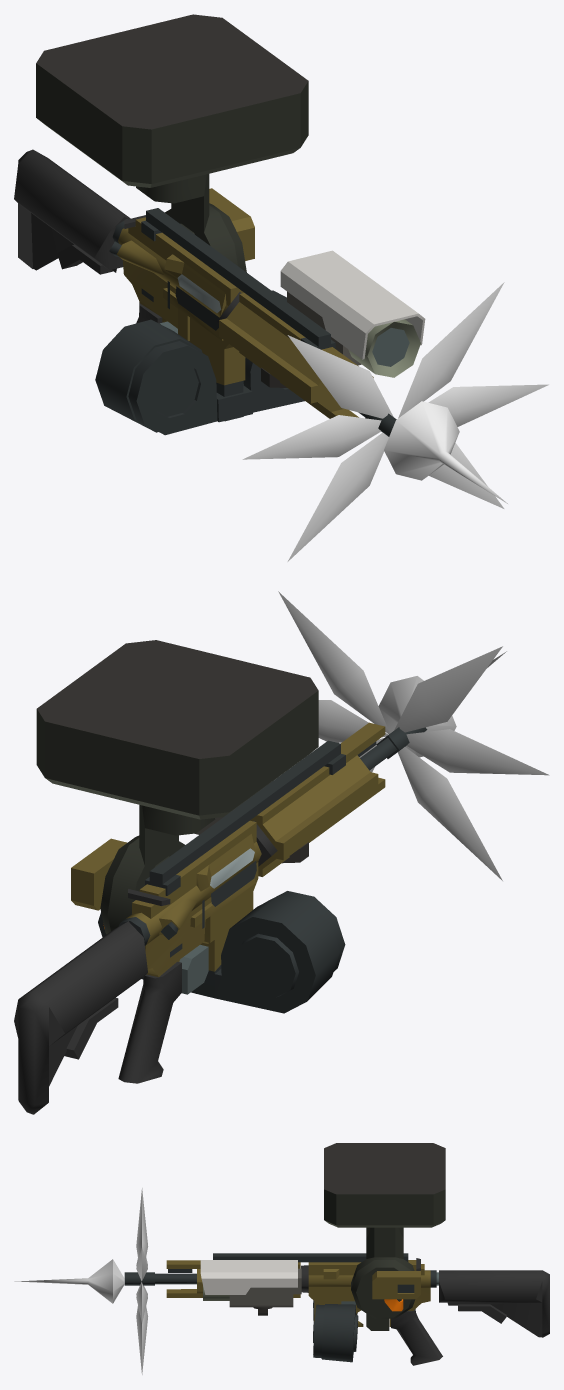
File: Turret_CeilingMounted.FBX
3 views of the same model, one above another, from view 1: azimuth 30°, elevation 25°; view 2: azimuth 150°, elevation 25°; view 3: azimuth 270°, elevation 25° (orthographic). The views are drawn at different scales.
Parts seen in each view (by area): view 1: TurretGun, Turret_CeilingMounted, MuzzleFlash, TurretHorizontalServo; view 2: TurretGun, Turret_CeilingMounted, MuzzleFlash, TurretHorizontalServo; view 3: TurretGun, Turret_CeilingMounted, TurretHorizontalServo, MuzzleFlash.
Boxes of the visible parts, x1=… form: TurretGun: x1=14, y1=149, x2=425, y2=436; Turret_CeilingMounted: x1=36, y1=14, x2=308, y2=187; MuzzleFlash: x1=242, y1=282, x2=548, y2=561; TurretHorizontalServo: x1=136, y1=174, x2=254, y2=272; TurretGun: x1=14, y1=722, x2=427, y2=1114; Turret_CeilingMounted: x1=36, y1=640, x2=318, y2=819; MuzzleFlash: x1=278, y1=591, x2=549, y2=880; TurretHorizontalServo: x1=71, y1=805, x2=215, y2=934; TurretGun: x1=124, y1=1253, x2=549, y2=1365; Turret_CeilingMounted: x1=324, y1=1143, x2=445, y2=1227; TurretHorizontalServo: x1=351, y1=1227, x2=420, y2=1318; MuzzleFlash: x1=14, y1=1188, x2=148, y2=1374.
Size of the model in its own units: 41.31 by 110 by 44.11.
